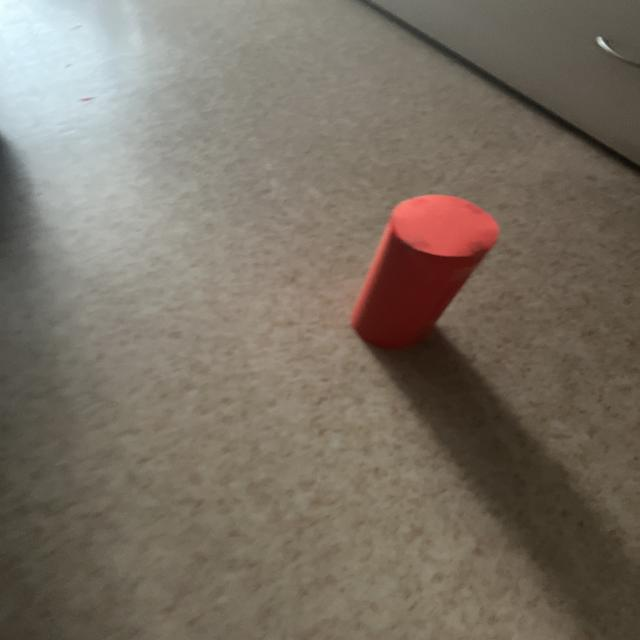przeszkoda: (351, 195, 499, 349)
